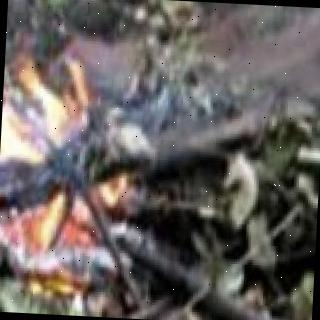fire: (0, 0, 101, 301)
